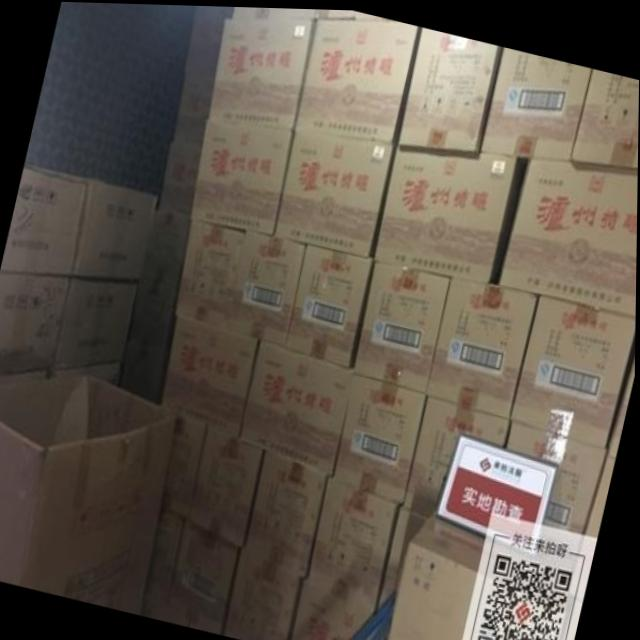box: (0, 373, 179, 614), (500, 151, 638, 314), (373, 145, 528, 281), (511, 291, 637, 446), (426, 273, 541, 416), (240, 337, 356, 475), (274, 127, 397, 255), (296, 17, 420, 141), (387, 497, 487, 640), (404, 390, 510, 516), (398, 24, 503, 151), (480, 43, 593, 156), (310, 476, 403, 613), (160, 309, 258, 438), (354, 260, 451, 390), (188, 117, 294, 235), (335, 369, 427, 503), (208, 15, 316, 129), (283, 244, 377, 366), (505, 418, 607, 530), (244, 449, 329, 576), (0, 163, 87, 274), (191, 426, 266, 549), (70, 178, 158, 279), (231, 230, 307, 344), (174, 216, 247, 327), (168, 520, 243, 628), (223, 549, 310, 640), (55, 276, 141, 368), (0, 274, 71, 375), (572, 65, 639, 166), (120, 290, 177, 404), (374, 505, 426, 613), (161, 413, 211, 521), (139, 210, 190, 307), (292, 580, 373, 640), (145, 510, 187, 606), (606, 331, 636, 454), (183, 5, 233, 77), (156, 140, 200, 216), (172, 71, 213, 145), (142, 599, 223, 633), (586, 448, 617, 533), (53, 361, 122, 385), (318, 7, 414, 22), (233, 5, 319, 19), (0, 367, 51, 384)
